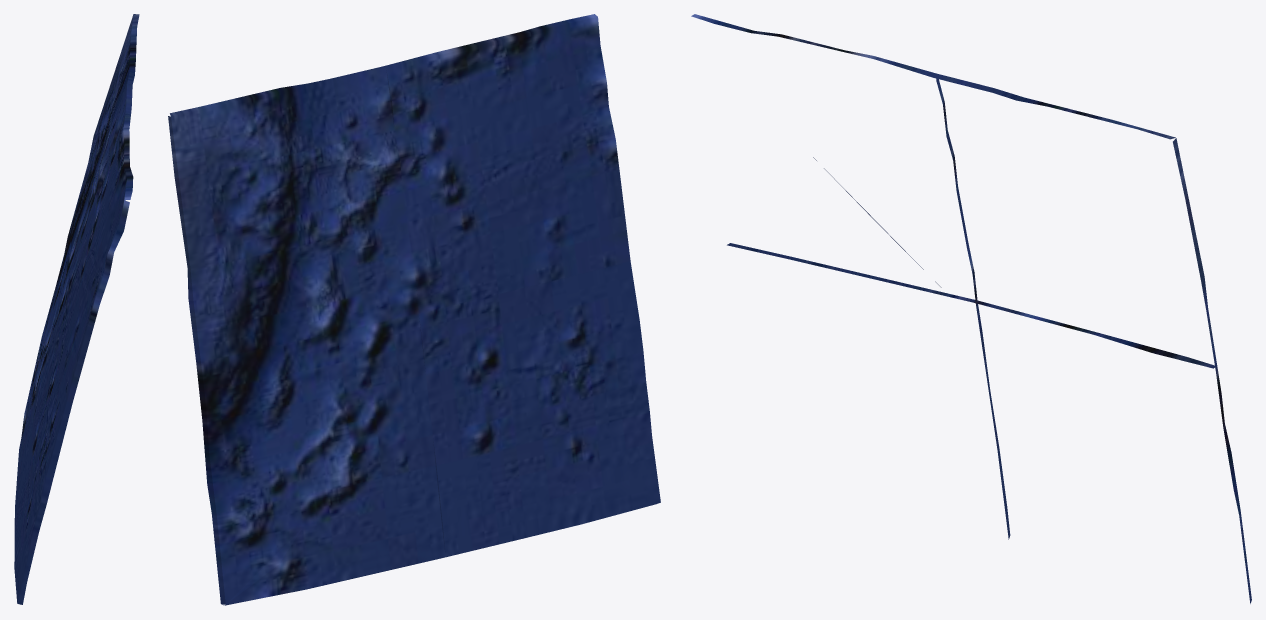
3 renders of one model, left to right at view 1: azimuth 30°, elevation 25°; view 2: azimuth 150°, elevation 25°; view 3: azimuth 270°, elevation 25°, orthographic. The views are drawn at different scales.
Bounding box in the file's own units: 448085 × 612721 × 602936.
1 material, 1 textured.
